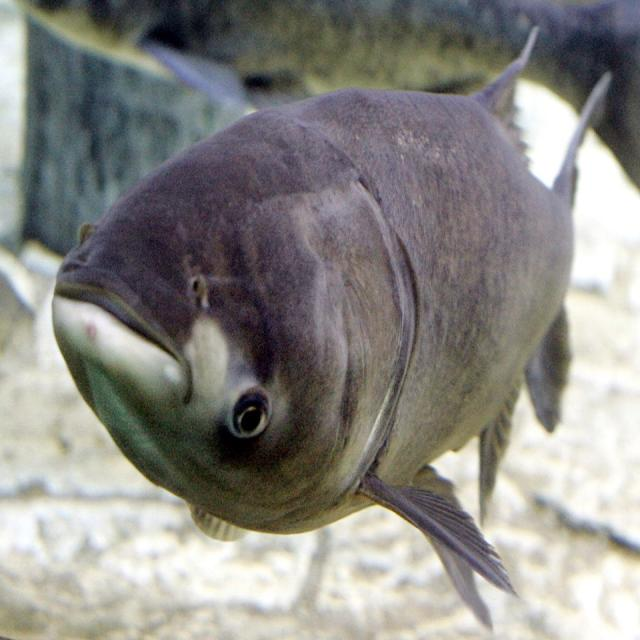Big-Head-Carp: (20, 47, 618, 629)
